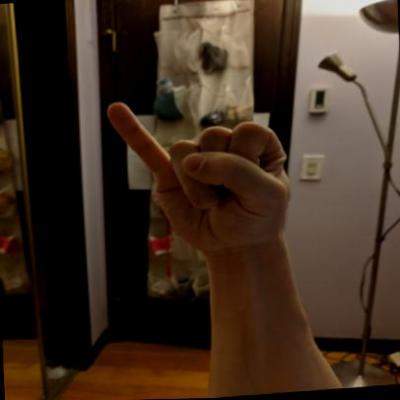hand: (101, 86, 300, 265)
